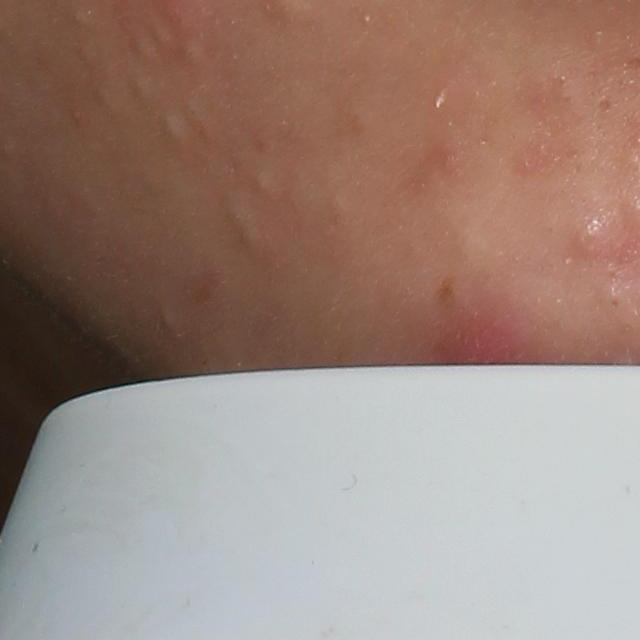comedo: (159, 114, 186, 150), (223, 196, 250, 231), (240, 226, 265, 254), (156, 307, 178, 335), (592, 94, 616, 119), (253, 169, 274, 195), (90, 88, 112, 112), (131, 76, 149, 101), (69, 8, 88, 29), (184, 41, 201, 64), (607, 295, 623, 315)
